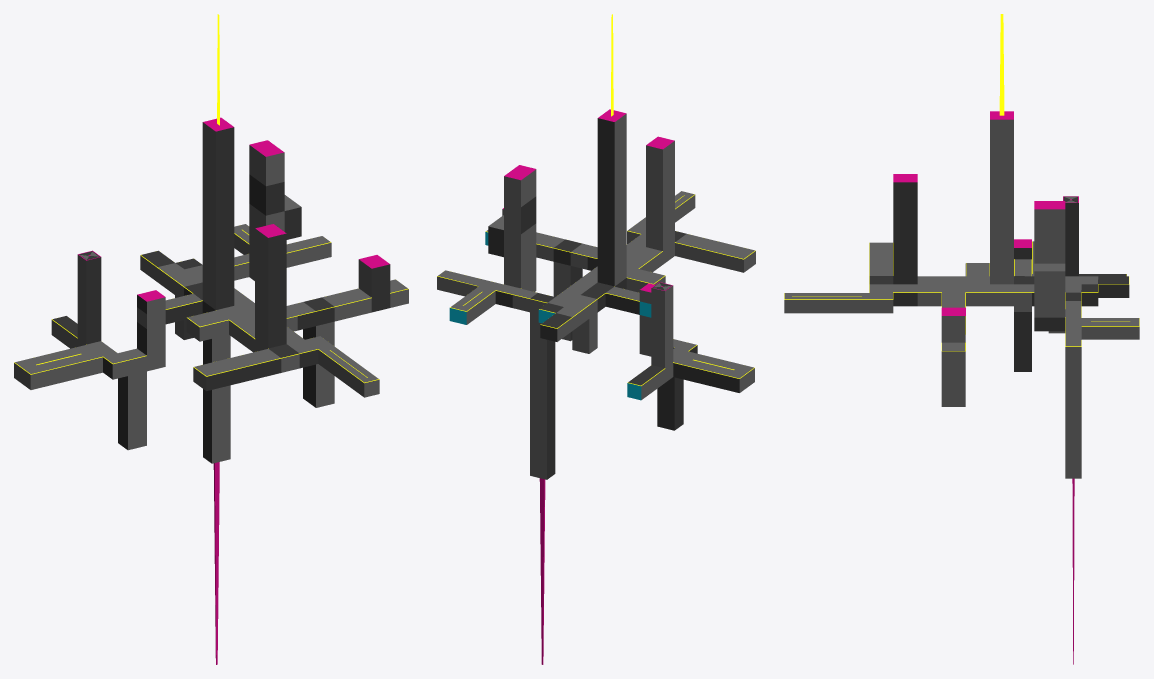
The model's file is hide-n-seek-plat-1.glb.
The picture shows the model from 3 angles, left to right: view 1: azimuth 30°, elevation 25°; view 2: azimuth 150°, elevation 25°; view 3: azimuth 270°, elevation 25°; orthographic projection. The views are drawn at different scales.
Parts seen in each view (by area): view 1: Cube; view 2: Cube; view 3: Cube.
Part boxes in pixels (left/top/right/bottom): Cube: left=14, top=14, right=408, bottom=664; Cube: left=437, top=14, right=755, bottom=664; Cube: left=784, top=14, right=1139, bottom=664.
Size of the model in its own units: 28.07 by 56.05 by 28.49.
